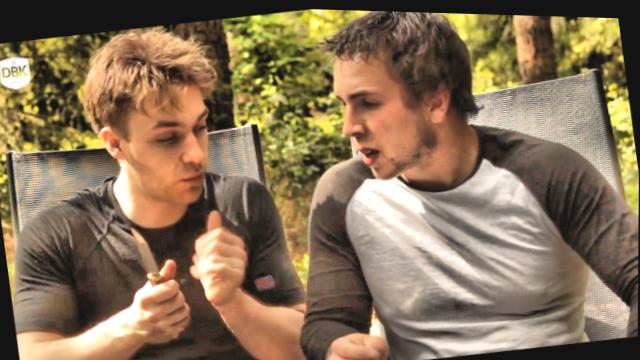knife: (118, 208, 192, 318)
